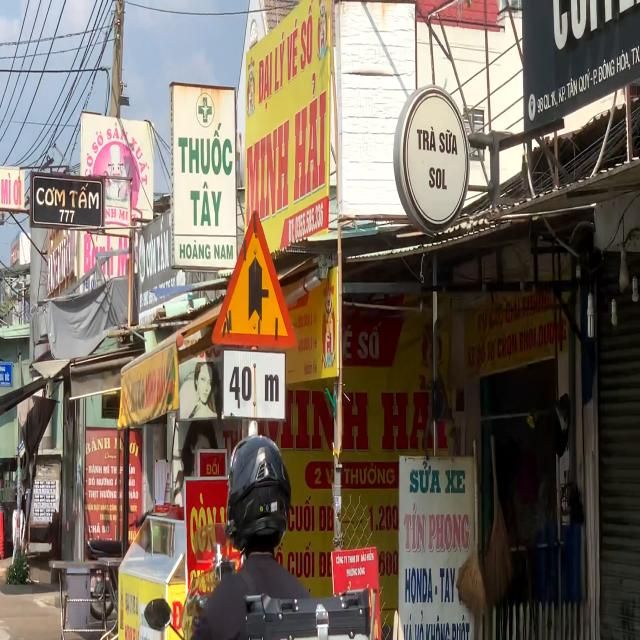W.207b: (211, 208, 296, 349)
